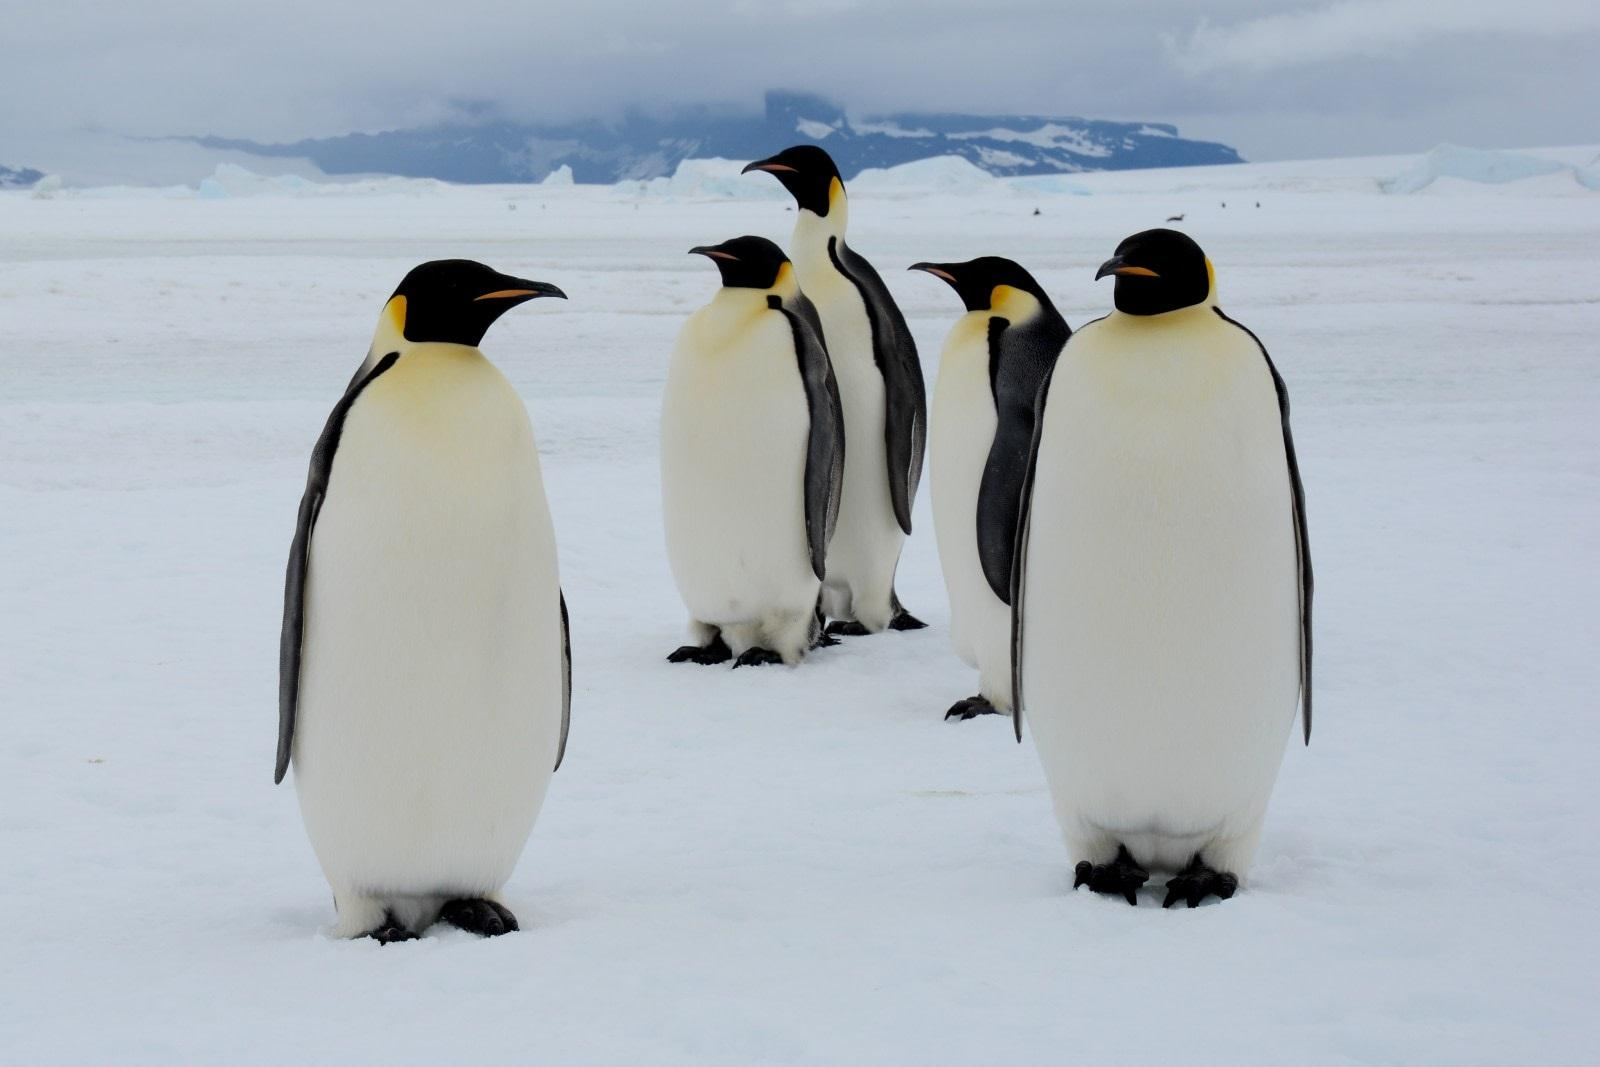emporer: (960, 200, 1396, 969), (204, 213, 613, 1023)
